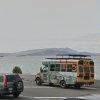Car: (0, 67, 27, 99)
